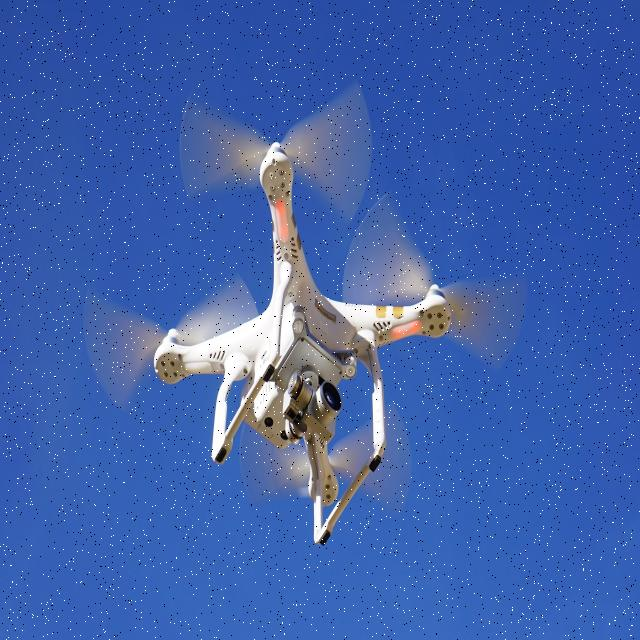UAV: (151, 132, 455, 550)
